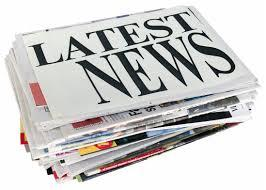Printing industry: (2, 7, 266, 190)
